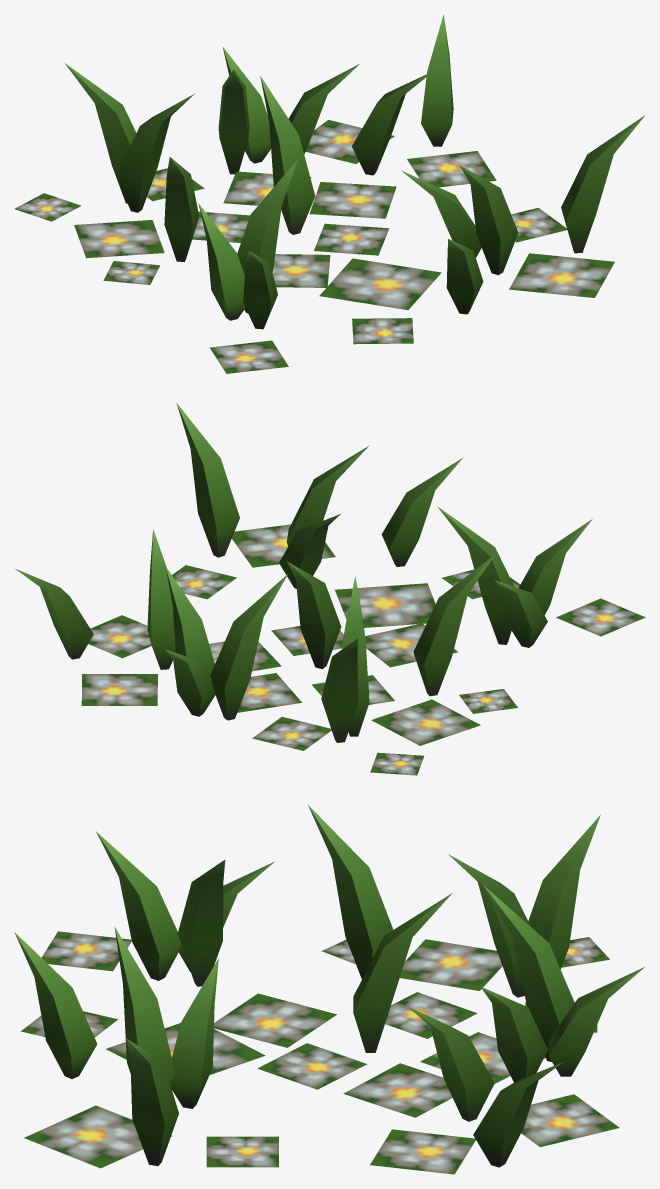
Rendered from deco_flowersSmall_white.FBX.
3 renders of one model, top to bottom at view 1: azimuth 30°, elevation 25°; view 2: azimuth 150°, elevation 25°; view 3: azimuth 270°, elevation 25°, orthographic. The views are drawn at different scales.
Visible parts, largest first — view 1: deco_flowersSmall_white; view 2: deco_flowersSmall_white; view 3: deco_flowersSmall_white.
Boxes of the visible parts, x1,y1,x2,y2 form: deco_flowersSmall_white: [14, 15, 645, 373]; deco_flowersSmall_white: [15, 403, 645, 775]; deco_flowersSmall_white: [14, 805, 644, 1174].
Size of the model in its own units: 1.94 by 0.5481 by 1.98.
1 material, 1 textured.
